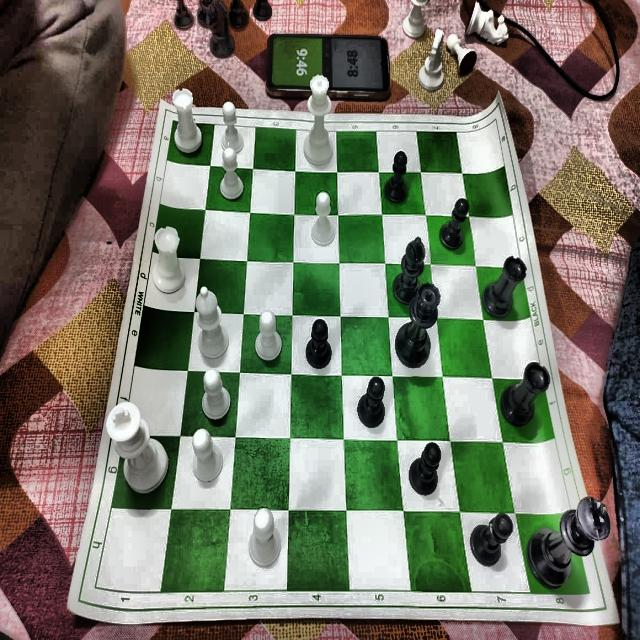BlackBishop: (394, 237, 426, 304)
BlackKing: (525, 495, 612, 588)
BlackPawn: (471, 512, 513, 566), (409, 441, 441, 496), (439, 197, 469, 251), (357, 376, 385, 428), (305, 319, 332, 369), (384, 151, 408, 203)
BlackQueen: (395, 282, 441, 368)
BlackRook: (501, 361, 551, 428), (481, 256, 528, 319)
WhiteBishop: (196, 287, 230, 359)
WhiteKing: (106, 402, 169, 496)
WhiteKnight: (418, 29, 446, 92)
WhitePawn: (248, 508, 282, 567), (192, 428, 224, 483), (201, 370, 231, 420), (255, 312, 282, 362), (311, 192, 335, 246), (220, 101, 244, 152), (220, 148, 243, 199)
WhiteQueen: (304, 74, 334, 165)
WhiteRook: (172, 87, 204, 153), (153, 227, 185, 293)
